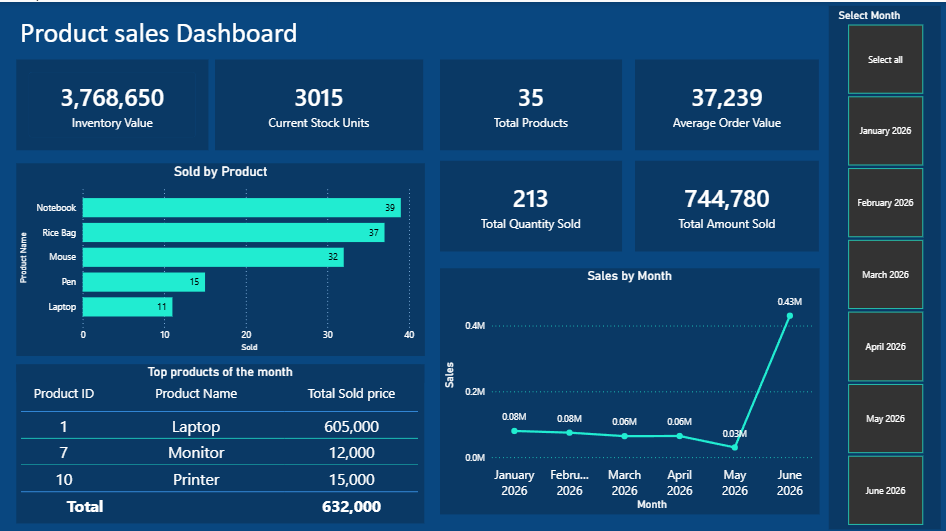

This screenshot's page, from the dashboard's own definition file:
{"tool":"powerbi","page":{"name":"Page 1","canvas":[1280,720],"ordinal":0},"visuals":[{"type":"cardVisual","fields":{"Data":["CountNonNull(vw_InventoryReport.ProductID)"]},"box":[592.8,76.8,245.6,122.1],"z":0},{"type":"cardVisual","fields":{"Data":["Sum(vw_InventoryReport.StockQuantity)"]},"box":[290.8,77,280.8,122.6],"z":1000},{"type":"clusteredBarChart","title":"Sold by Product ","fields":{"Category":["vw_ProductSales.ProductName"],"Y":["Sum(vw_ProductSales.TotalSold)"]},"box":[21.4,217.1,551.4,260],"z":2000},{"type":"textbox","box":[21.4,14.3,419.1,62.7],"z":3000},{"type":"slicer","fields":{"Values":["Orders.Month Slider"]},"box":[1118.4,5.5,150.9,706.7],"z":4000},{"type":"cardVisual","fields":{"Data":["OrderItems.Sum of TotalAmount divided by Count of OrderID"]},"box":[856.3,76.8,248.4,122.1],"z":5000},{"type":"cardVisual","fields":{"Data":["Sum(Orders.TotalAmount)"]},"box":[856.3,214.1,248.4,122.1],"z":6000},{"type":"cardVisual","fields":{"Data":["Sum(OrderItems.Quantity)"]},"box":[592.8,214.1,245.6,122.1],"z":7000},{"type":"lineChart","title":"Sales by Month","fields":{"Category":["vw_Monthly_Revenue.timeline"],"Y":["Sum(vw_Monthly_Revenue.TotalSales)"]},"box":[592.8,359.5,511.8,332.1],"z":8000},{"type":"cardVisual","fields":{"Data":["Sum(Products.TotalProductCost)"]},"box":[22,76.8,259.3,122.1],"z":9000},{"type":"tableEx","title":"Top products of the month","fields":{"Values":["OrderItems.ProductID","Products.ProductName","Sum(OrderItems.totalprice)"]},"box":[22,488.5,550.3,214.1],"z":10000}]}

Visuals, with their boxes in screenshot pixels (x1, y1, x2, y2), scaled from the page's 1280x720 canvas onto the 946x531 screenshot:
cardVisual - CountNonNull(vw_InventoryReport.ProductID): box(438, 57, 620, 147)
cardVisual - Sum(vw_InventoryReport.StockQuantity): box(215, 57, 422, 147)
"Sold by Product " clusteredBarChart: box(16, 160, 423, 352)
textbox: box(16, 11, 326, 57)
slicer - Orders.Month Slider: box(827, 4, 938, 525)
cardVisual - OrderItems.Sum of TotalAmount divided by Count of OrderID: box(633, 57, 816, 147)
cardVisual - Sum(Orders.TotalAmount): box(633, 158, 816, 248)
cardVisual - Sum(OrderItems.Quantity): box(438, 158, 620, 248)
"Sales by Month" lineChart: box(438, 265, 816, 510)
cardVisual - Sum(Products.TotalProductCost): box(16, 57, 208, 147)
"Top products of the month" tableEx: box(16, 360, 423, 518)
